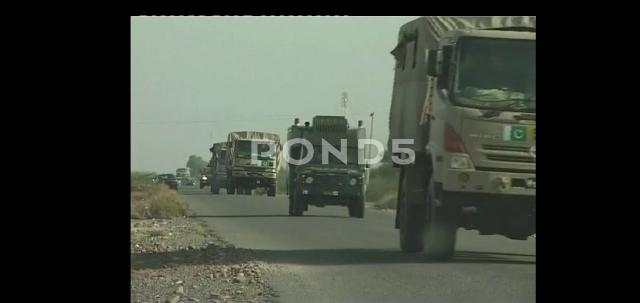plate: (321, 188, 341, 198)
